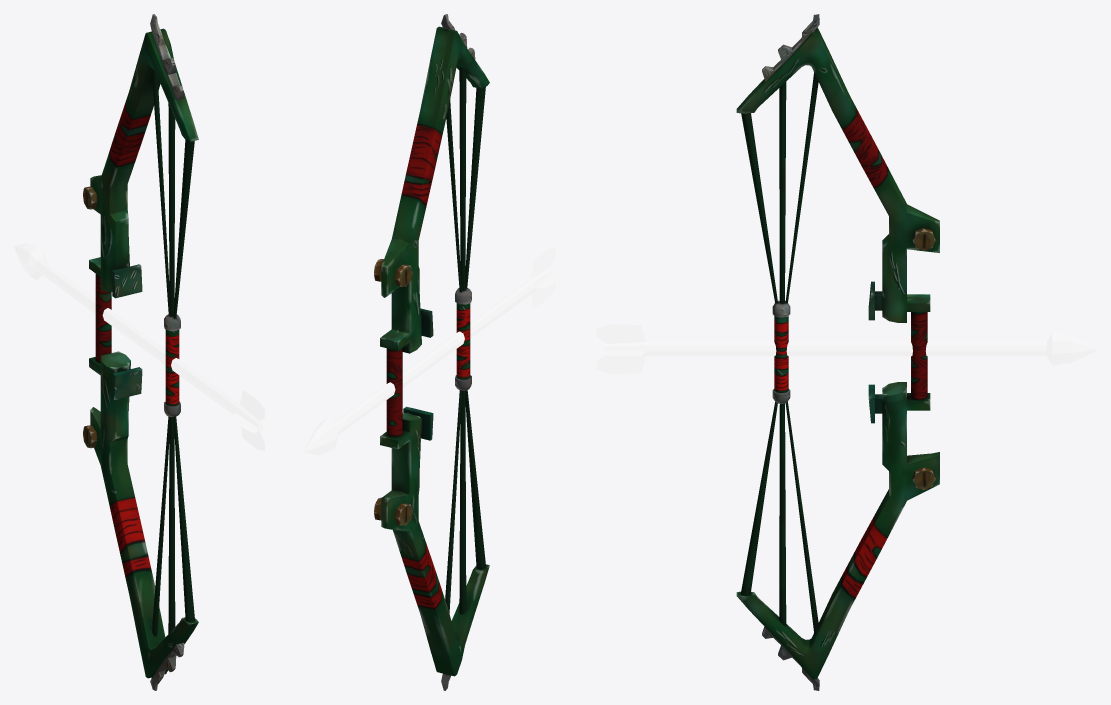
Rendered from bow.glb.
3 views of the same model, side by side, from view 1: azimuth 30°, elevation 25°; view 2: azimuth 150°, elevation 25°; view 3: azimuth 270°, elevation 25° (orthographic).
Visible parts, largest first — view 1: Bow, Arrow; view 2: Bow, Arrow; view 3: Bow, Arrow.
Boxes of the visible parts, box(x1,y1,x2,y2) form: Bow: box(83, 14, 198, 690); Arrow: box(14, 243, 276, 450); Bow: box(374, 14, 489, 690); Arrow: box(305, 247, 567, 455); Bow: box(736, 14, 939, 690); Arrow: box(596, 324, 1096, 373).
Bounding box in the file's own units: 0.046 × 0.972 × 0.6518.
2 materials, 1 textured.
